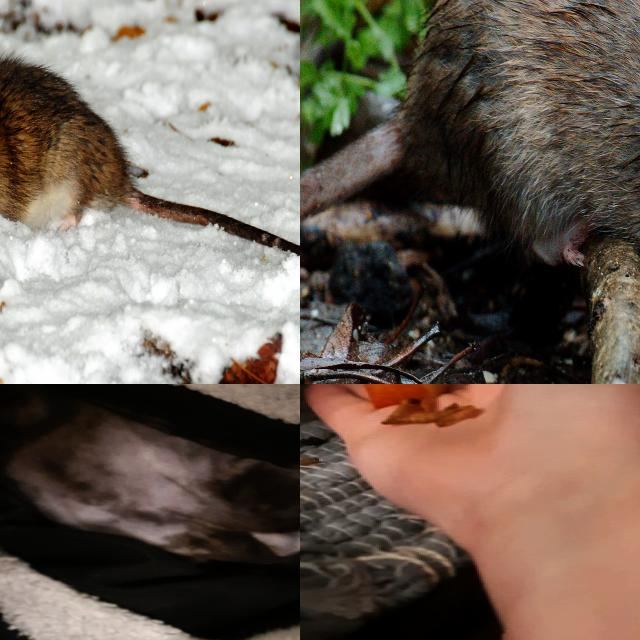rat: (417, 0, 640, 384), (0, 56, 136, 237)
